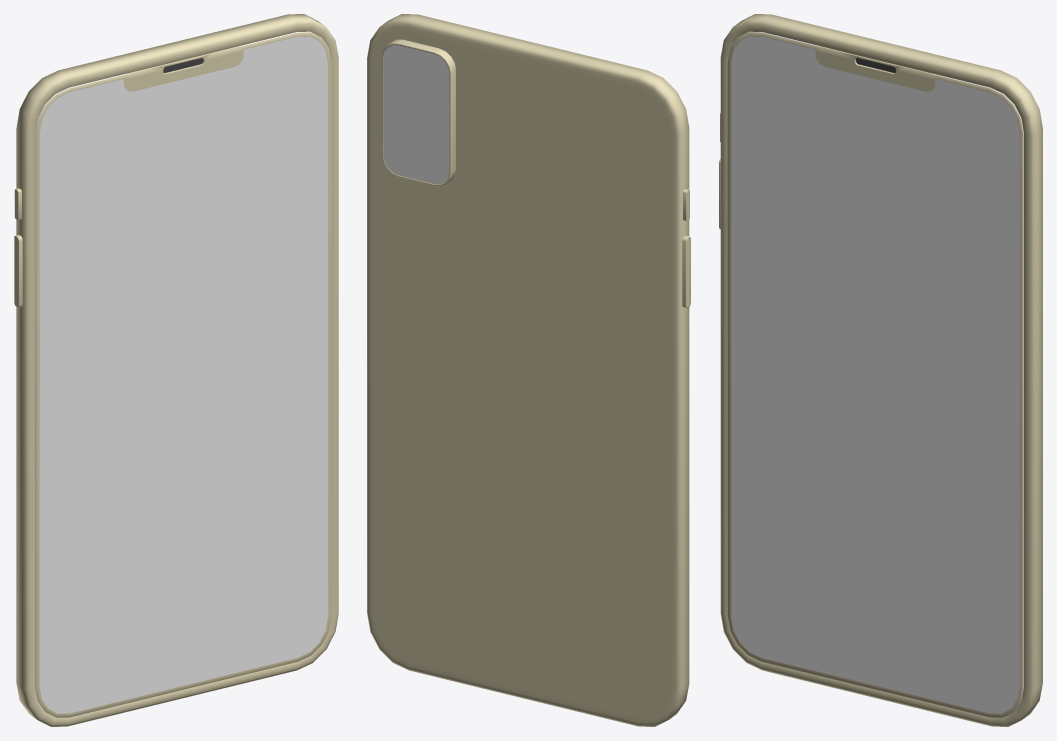
The model's file is Smartphone.glb.
3 views of the same model, side by side, from view 1: azimuth 30°, elevation 25°; view 2: azimuth 150°, elevation 25°; view 3: azimuth 330°, elevation 25° (orthographic).
Visible parts, largest first — view 1: SmartPhone_Screen, SmartPhone_Body, SmartPhone_Switch.002; view 2: SmartPhone_Body, SmartPhone_Glass_Back camera, SmartPhone_edge camera base, SmartPhone_Switch.002; view 3: SmartPhone_Screen, SmartPhone_Body.
Part boxes in pixels (bbox=[...]): SmartPhone_Screen: bbox=[35, 31, 331, 717]; SmartPhone_Body: bbox=[16, 14, 338, 726]; SmartPhone_Switch.002: bbox=[14, 235, 22, 307]; SmartPhone_Body: bbox=[367, 14, 689, 726]; SmartPhone_Glass_Back camera: bbox=[383, 45, 449, 184]; SmartPhone_edge camera base: bbox=[382, 39, 455, 186]; SmartPhone_Switch.002: bbox=[682, 235, 690, 308]; SmartPhone_Screen: bbox=[727, 31, 1023, 717]; SmartPhone_Body: bbox=[720, 14, 1042, 726].
Size of the model in its own units: 0.0737 by 0.1441 by 0.00666.
